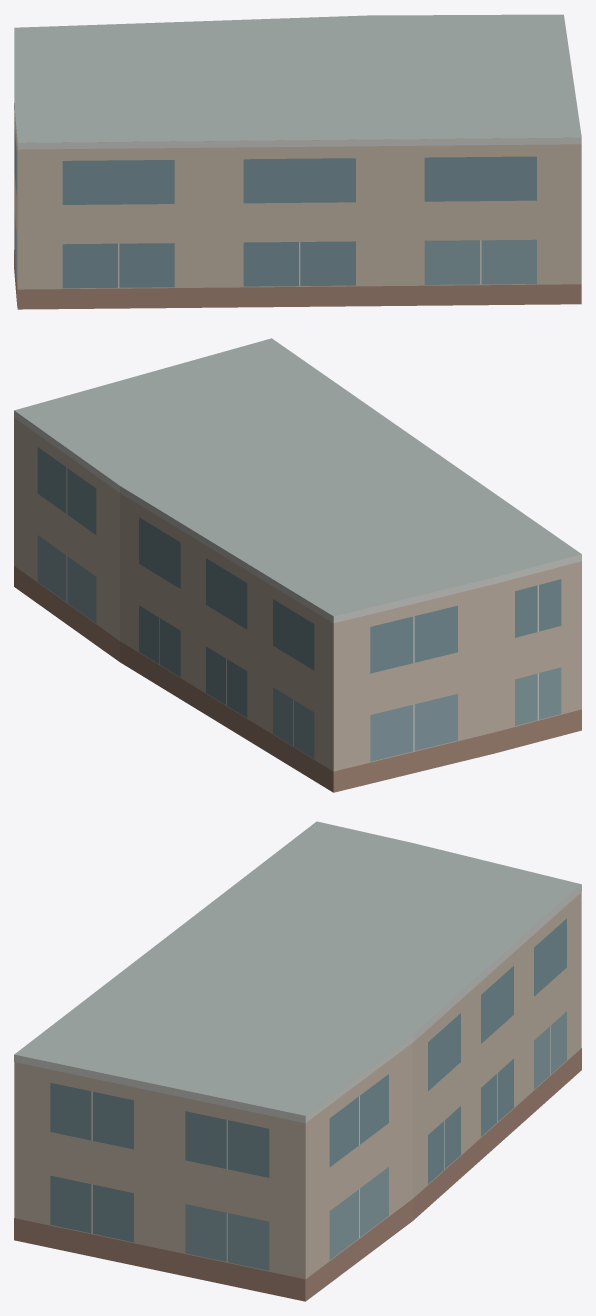
The model's file is survey-upis-32651569.glb.
The picture shows the model from 3 angles, top to bottom: view 1: azimuth 30°, elevation 25°; view 2: azimuth 150°, elevation 25°; view 3: azimuth 270°, elevation 25°; orthographic projection. The views are drawn at different scales.
Visible parts, largest first — view 1: survey-upis-32651569.tmp; view 2: survey-upis-32651569.tmp; view 3: survey-upis-32651569.tmp.
Boxes of the visible parts, <box> form: survey-upis-32651569.tmp: <box>14,14,581,309</box>; survey-upis-32651569.tmp: <box>14,338,581,792</box>; survey-upis-32651569.tmp: <box>14,821,581,1301</box>.
Bounding box in the file's own units: 20.75 × 6.1 × 16.91.
